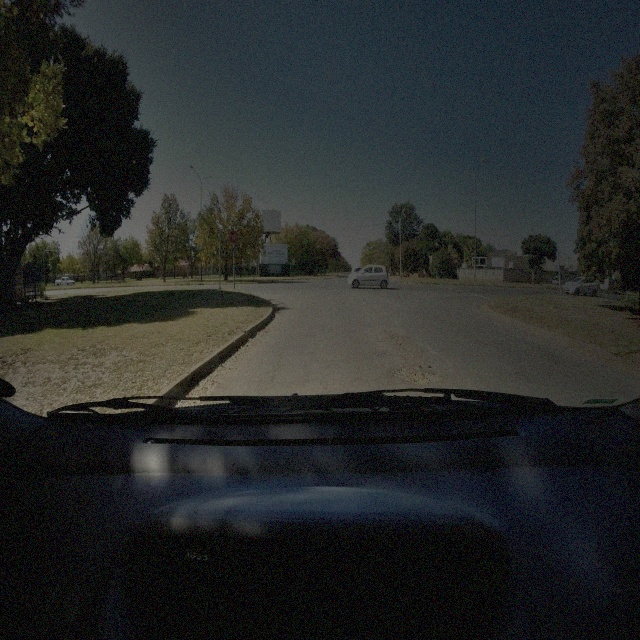pothole: (392, 363, 444, 387)
